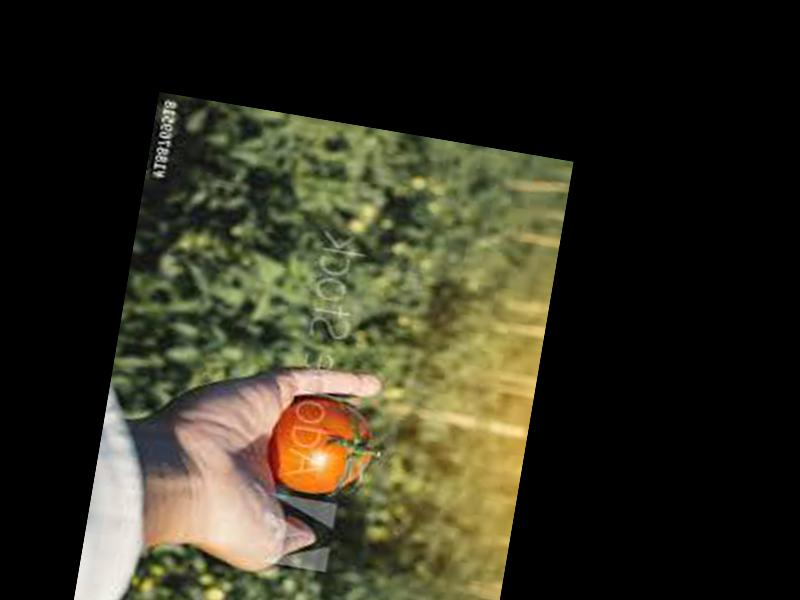Tomato: (267, 389, 378, 499)
